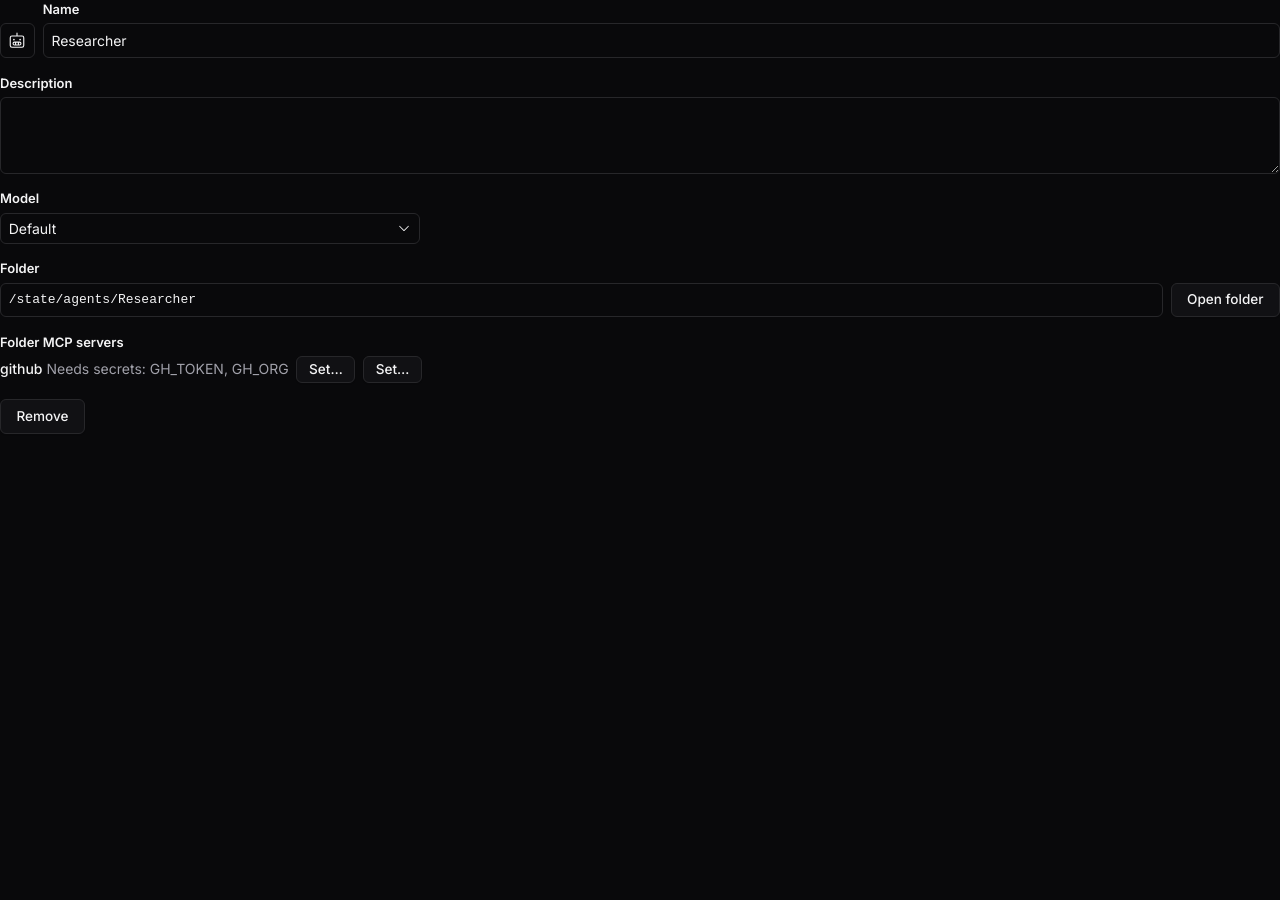
Test: ProfileTab: missing secrets › test Needs secrets shows Set… per variable and saving calls setMcpSecret
Expected: the text "Needs secrets: GH_TOKEN, GH_ORG" is shown, [46,360,289,377]
Click the 1st button "Set…": (326, 370) [296,356,355,383]
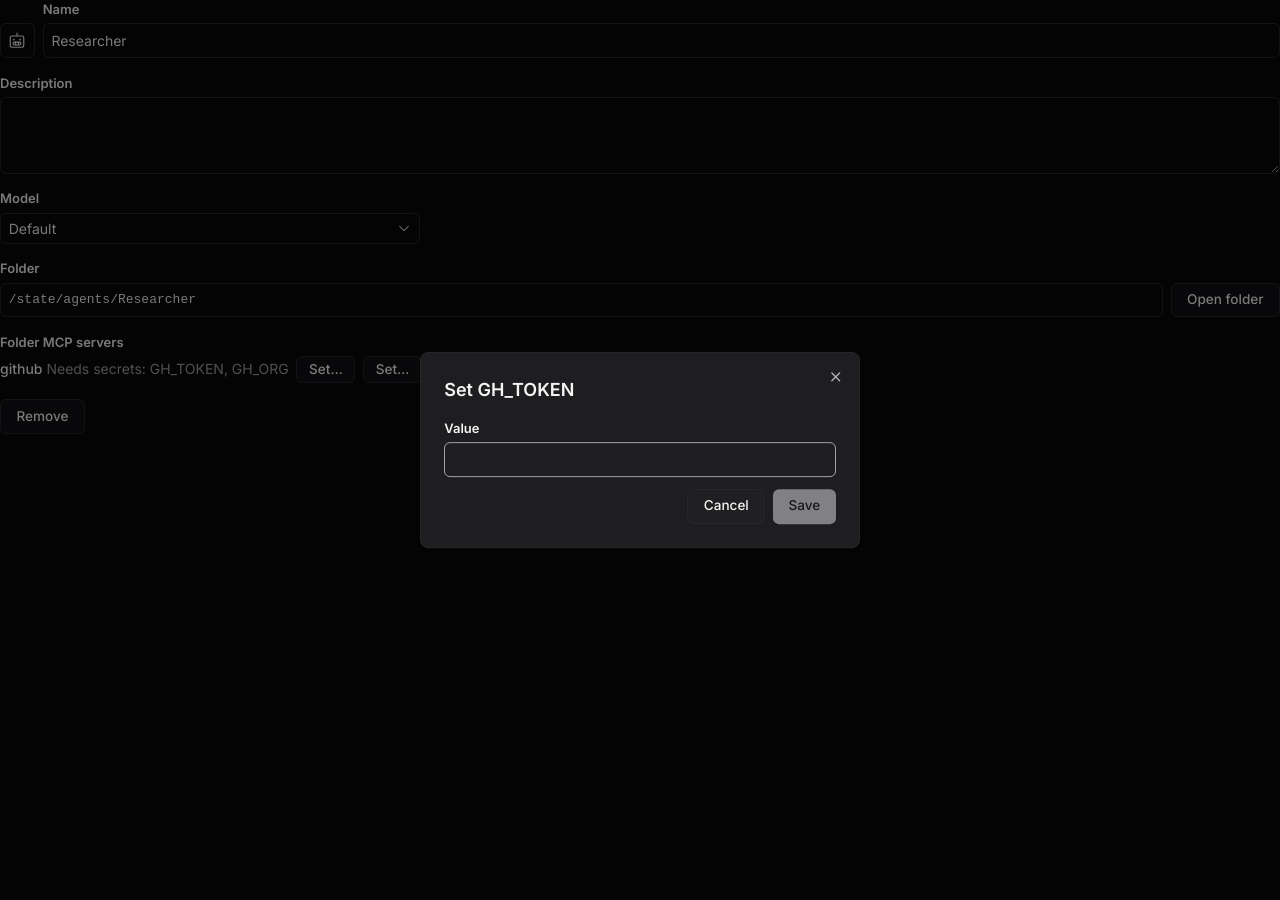
In the password field labelled "Value": (640, 460) [444,442,836,477], type "s3cret-profile"
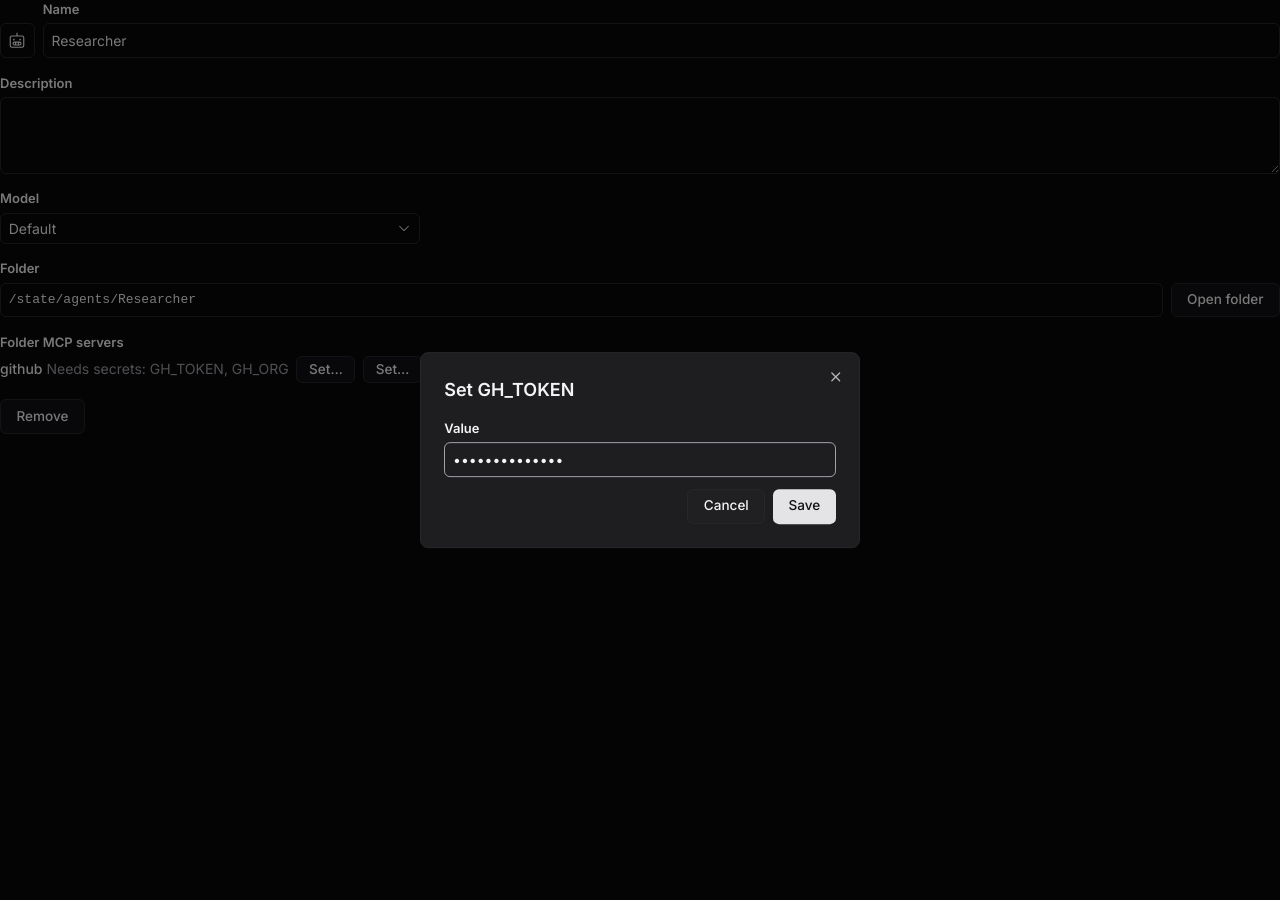
Click the button "Save": (804, 506) [773,489,836,524]
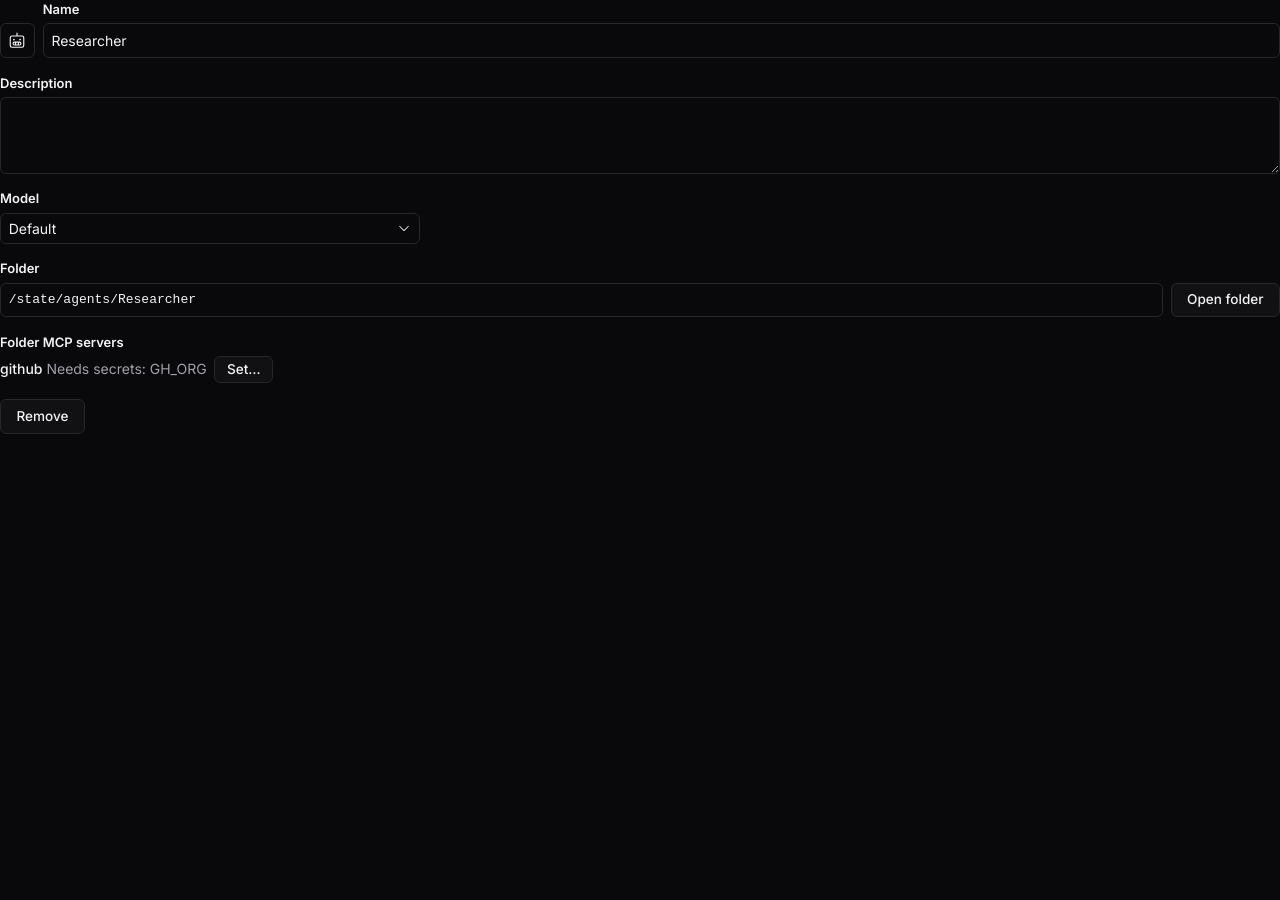
Expected: the dialog is gone
Expected: the text "Needs secrets: GH_ORG" is shown, [46,360,207,377]
